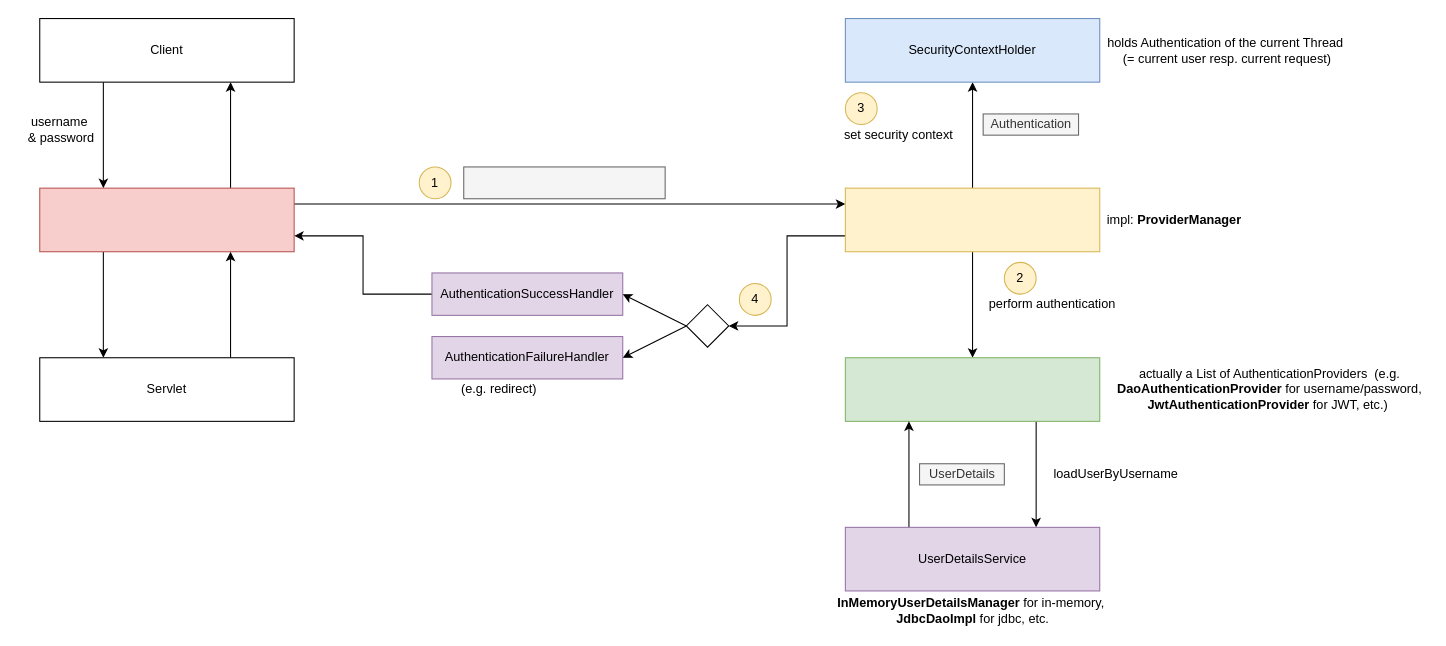
This 1446x646 diagram has some shape labels left out. The shapes that lost their labels are listed below. From the top down, each one's box as (x1, y1, x2, y2) in pixels, then its label:
(463, 166, 665, 199): username & password (wrapped in authentication token)
(39, 187, 294, 252): SecurityFilterChain
(844, 187, 1100, 252): AuthenticationManager
(685, 304, 729, 347): success?
(844, 357, 1100, 421): AuthenticationProvider
